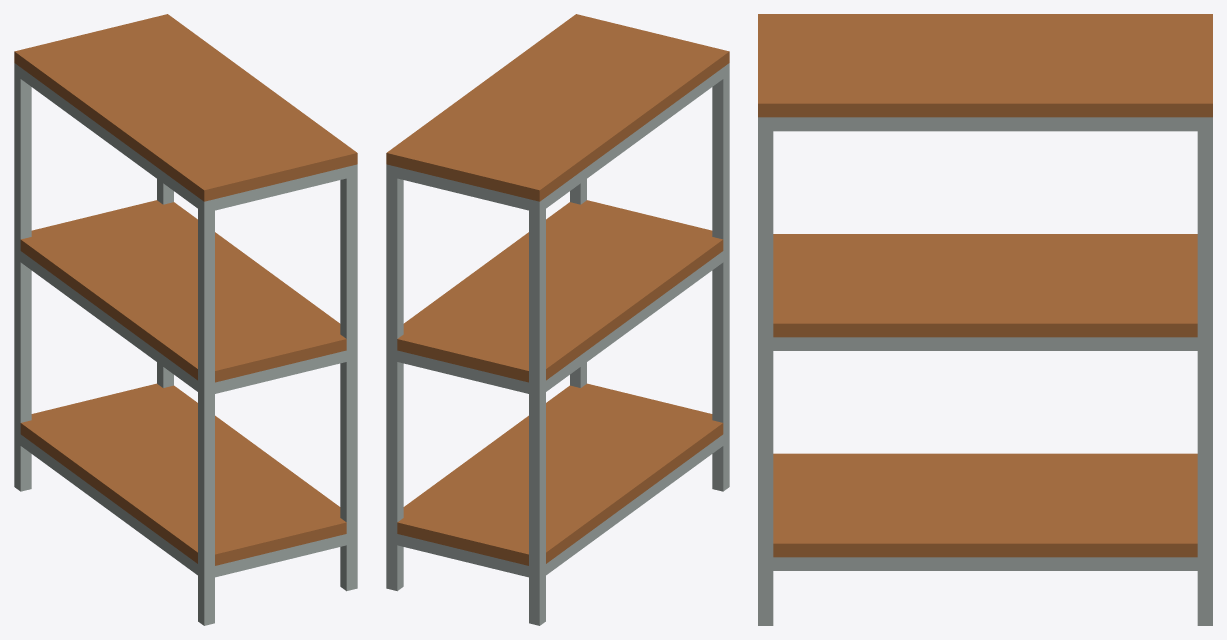
Rendered from shelves_03.glb.
3 views of the same model, side by side, from view 1: azimuth 30°, elevation 25°; view 2: azimuth 150°, elevation 25°; view 3: azimuth 270°, elevation 25° (orthographic). The views are drawn at different scales.
Visible parts, largest first — view 1: Untitled; view 2: Untitled; view 3: Untitled.
Part boxes in pixels (x1,y1,x2,y2): Untitled: [14, 14, 357, 625]; Untitled: [386, 14, 729, 625]; Untitled: [758, 14, 1212, 625].
Size of the model in its own units: 0.42 by 1.14 by 0.9.
1 material, 1 textured.
